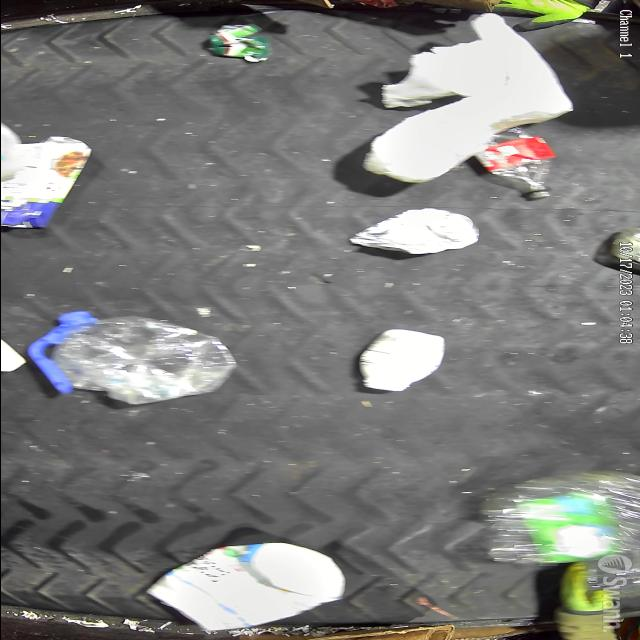milk_jug: (147, 542, 346, 629)
plastic_bottle: (34, 315, 234, 405), (472, 128, 554, 200)
